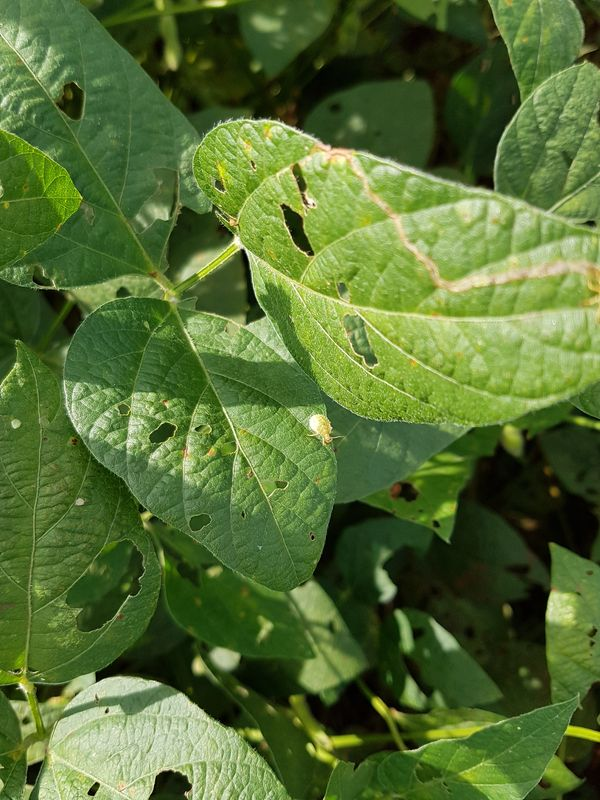Euschistus_heros_ninfa: (296, 407, 347, 450)
